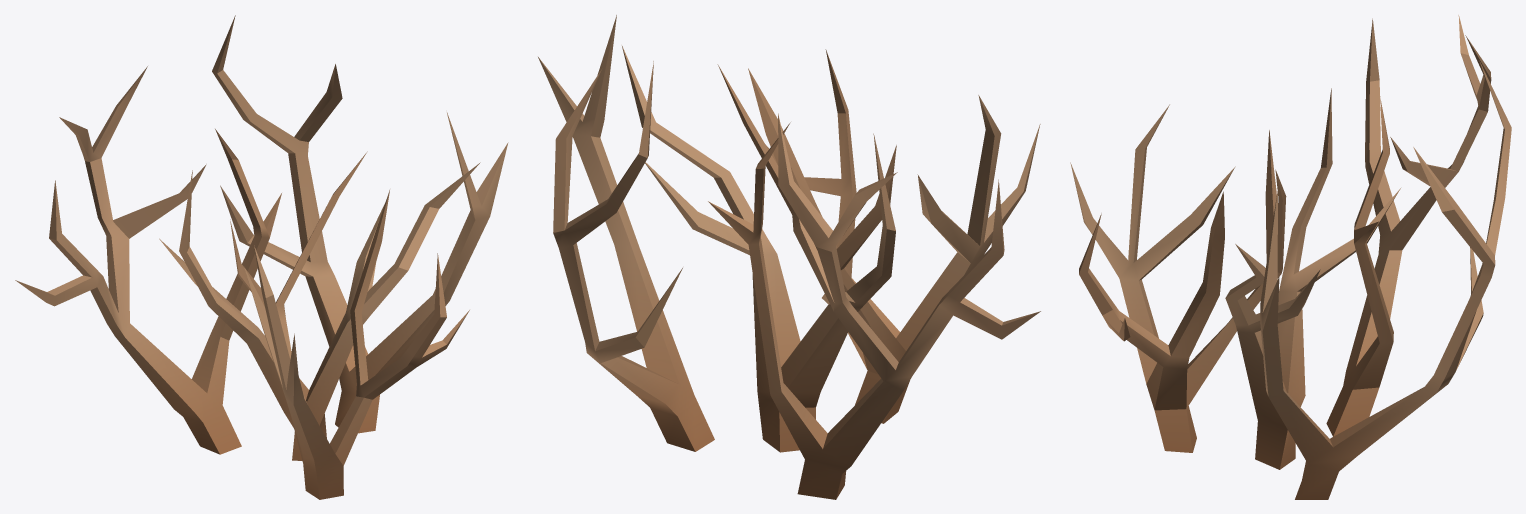
File: Bash.fbx
3 views of the same model, side by side, from view 1: azimuth 30°, elevation 25°; view 2: azimuth 150°, elevation 25°; view 3: azimuth 270°, elevation 25° (orthographic). The views are drawn at different scales.
Parts seen in each view (by area): view 1: Bash; view 2: Bash; view 3: Bash.
Boxes of the visible parts, bbox=[...] form: Bash: bbox=[15, 15, 508, 499]; Bash: bbox=[538, 15, 1040, 499]; Bash: bbox=[1070, 15, 1511, 499].
Size of the model in its own units: 142 by 112 by 109.
